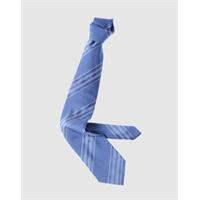tie: (59, 16, 141, 185)
